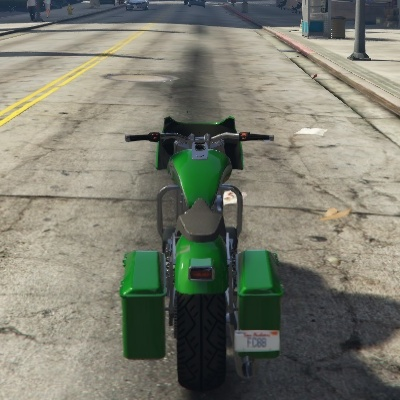off: (184, 255, 220, 287)
